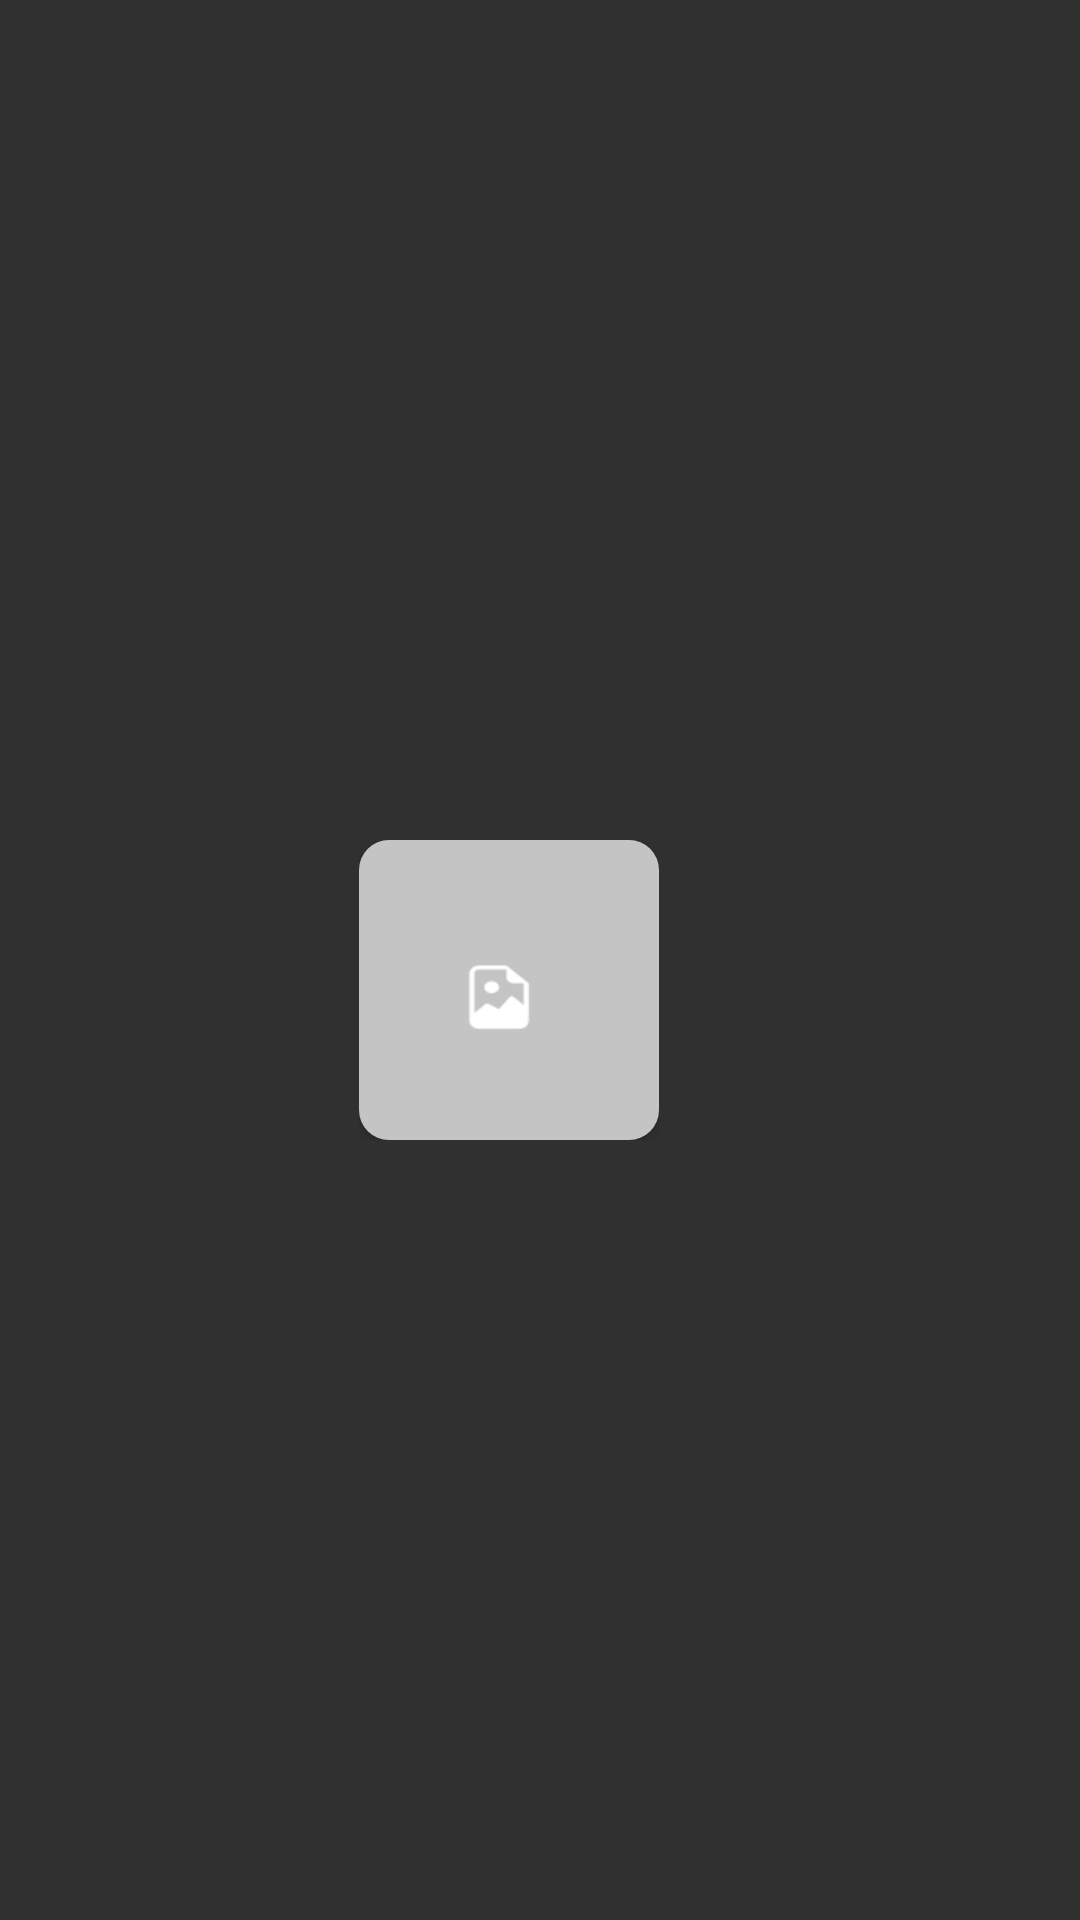

Locate icon controls on the screen. Image size 1080px x 1920px, boxes as (x1, y1, x2, y2).
emptygallery: (359, 840, 659, 1140)
